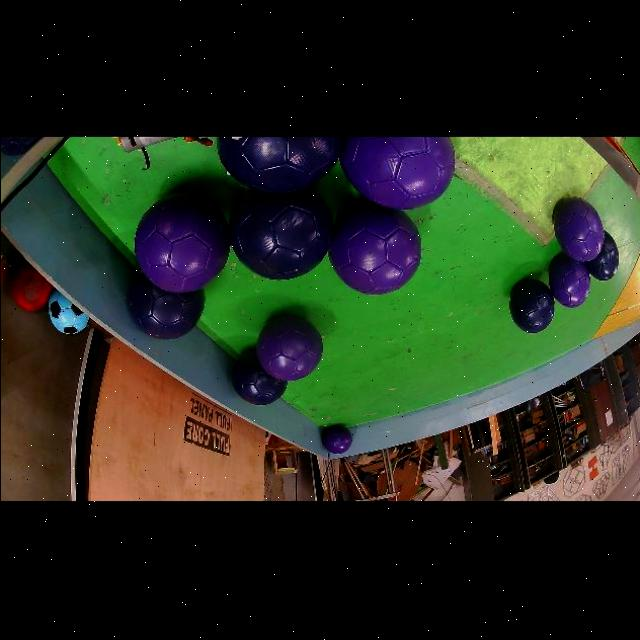B: (228, 188, 332, 279), (216, 136, 342, 193), (127, 271, 204, 338), (230, 348, 286, 404), (509, 279, 553, 332), (585, 231, 618, 280), (0, 136, 41, 156)
P: (133, 191, 229, 291), (328, 202, 420, 294), (339, 136, 454, 209), (256, 314, 322, 380), (552, 196, 604, 261), (548, 253, 590, 307), (322, 424, 352, 453)
